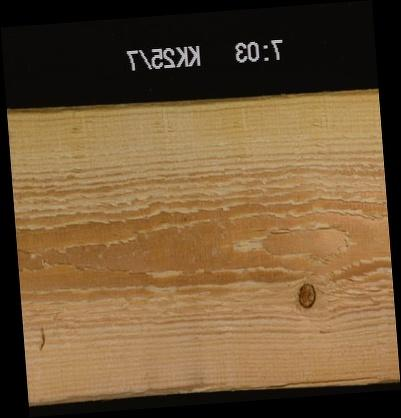wave: (139, 87, 376, 109), (30, 381, 214, 403)
